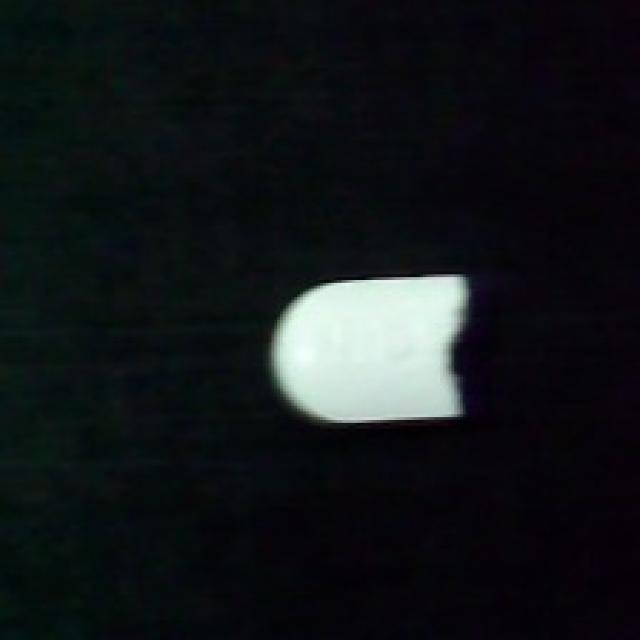defected: (269, 269, 477, 434)
